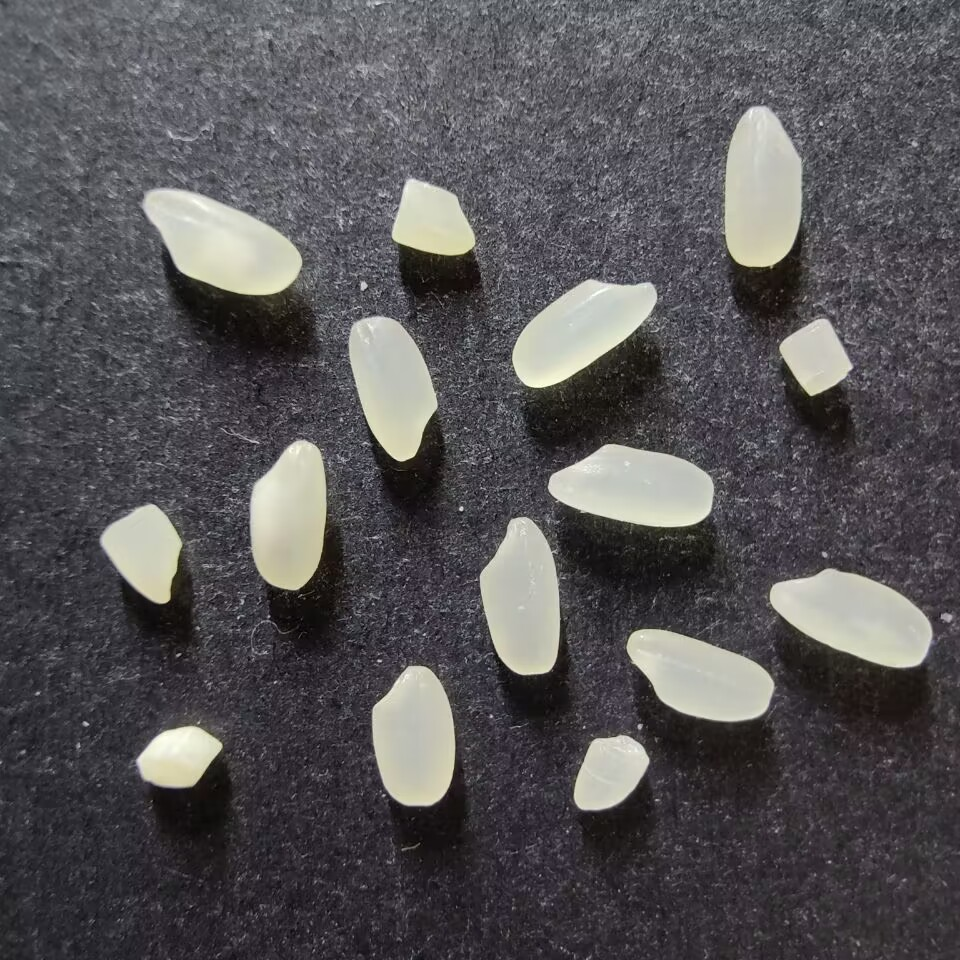broken: (100, 502, 182, 604), (392, 178, 476, 256), (573, 733, 650, 811), (778, 317, 853, 396), (137, 725, 223, 789)
rice: (143, 186, 303, 296), (769, 567, 933, 668), (512, 277, 658, 388), (548, 443, 715, 528), (626, 628, 775, 722), (723, 105, 804, 267), (348, 315, 437, 462), (479, 516, 561, 675), (371, 664, 456, 808), (249, 439, 327, 591)
